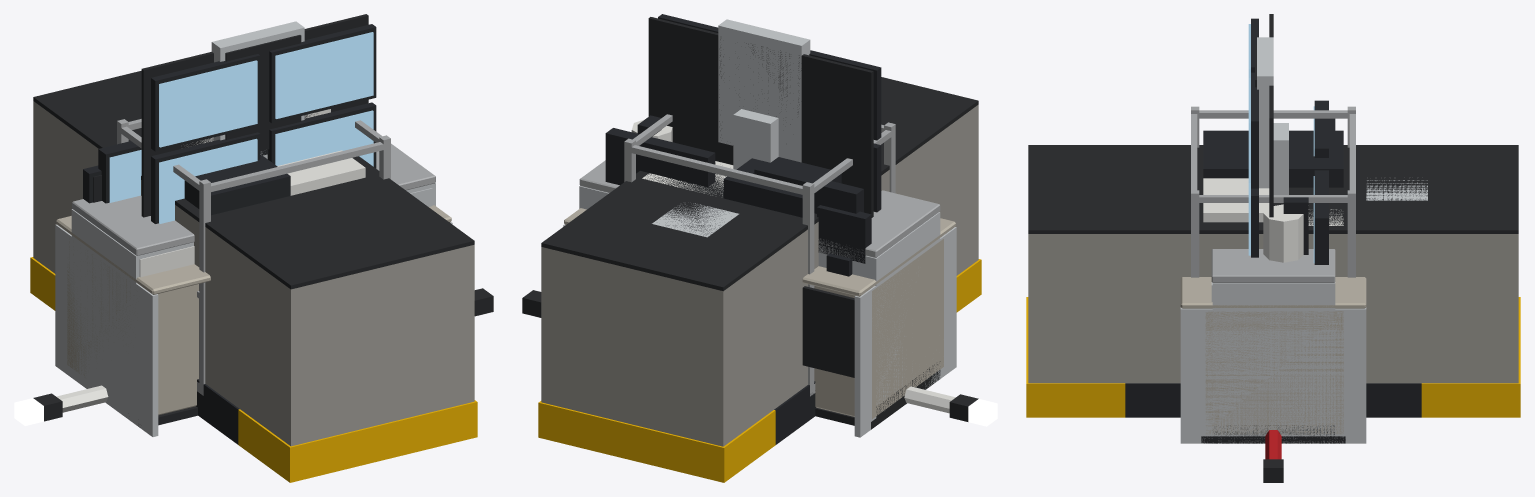
The model's file is hero-s1.glb.
3 views of the same model, side by side, from view 1: azimuth 30°, elevation 25°; view 2: azimuth 150°, elevation 25°; view 3: azimuth 270°, elevation 25° (orthographic). The views are drawn at different scales.
Parts seen in each view (by area): view 1: trafficIsland.concrete, trafficIsland.steelDark, monitorBank.screen, pcDesk.steel, trafficIsland.safety, gateDesk.laminate, monitorBank.plastic, teaPoint.galv, cageTrolley.galv, monitorBank.steelDark, cageTrolley.plastic, teaPoint.steel (+11 smaller); view 2: trafficIsland.concrete, trafficIsland.steelDark, monitorBank.steelDark, gateDesk.laminate, trafficIsland.safety, keyCabinet.steel, gateDesk.plastic, visitorBoard.steelDark, cageTrolley.galv, pcDesk.steel, pcDesk.steelDark, teaPoint.steel (+14 smaller); view 3: trafficIsland.concrete, trafficIsland.steelDark, pcDesk.steel, gateDesk.laminate, teaPoint.steel, trafficIsland.safety, cageTrolley.galv, cageTrolley.plastic, trafficIsland.plastic, teaPoint.galv, cageTrolley.white, gateDesk.plastic (+10 smaller).
Boxes of the visible parts, x1=… form: trafficIsland.concrete: x1=33, y1=101, x2=474, y2=446; trafficIsland.steelDark: x1=33, y1=70, x2=474, y2=289; monitorBank.screen: x1=159, y1=32, x2=373, y2=223; pcDesk.steel: x1=55, y1=222, x2=452, y2=436; trafficIsland.safety: x1=30, y1=257, x2=477, y2=482; gateDesk.laminate: x1=67, y1=205, x2=438, y2=415; monitorBank.plastic: x1=151, y1=24, x2=376, y2=223; teaPoint.galv: x1=72, y1=143, x2=435, y2=255; cageTrolley.galv: x1=117, y1=119, x2=390, y2=395; monitorBank.steelDark: x1=141, y1=14, x2=368, y2=217; cageTrolley.plastic: x1=184, y1=155, x2=290, y2=215; teaPoint.steel: x1=71, y1=183, x2=435, y2=308; trafficIsland.concrete: x1=541, y1=104, x2=978, y2=446; trafficIsland.steelDark: x1=541, y1=77, x2=978, y2=291; monitorBank.steelDark: x1=648, y1=17, x2=873, y2=217; gateDesk.laminate: x1=576, y1=208, x2=943, y2=418; trafficIsland.safety: x1=538, y1=259, x2=981, y2=482; keyCabinet.steel: x1=718, y1=19, x2=810, y2=162; gateDesk.plastic: x1=605, y1=128, x2=863, y2=213; visitorBoard.steelDark: x1=676, y1=54, x2=842, y2=178; cageTrolley.galv: x1=624, y1=114, x2=895, y2=396; pcDesk.steel: x1=563, y1=224, x2=956, y2=437; pcDesk.steelDark: x1=802, y1=286, x2=854, y2=377; teaPoint.steel: x1=579, y1=186, x2=940, y2=406; trafficIsland.concrete: x1=1028, y1=234, x2=1518, y2=383; trafficIsland.steelDark: x1=1028, y1=145, x2=1518, y2=233; pcDesk.steel: x1=1180, y1=307, x2=1366, y2=443; gateDesk.laminate: x1=1203, y1=277, x2=1343, y2=434; teaPoint.steel: x1=1211, y1=282, x2=1335, y2=425; trafficIsland.safety: x1=1026, y1=297, x2=1520, y2=417; cageTrolley.galv: x1=1191, y1=106, x2=1355, y2=277; cageTrolley.plastic: x1=1203, y1=130, x2=1343, y2=187; trafficIsland.plastic: x1=1125, y1=383, x2=1421, y2=417; teaPoint.galv: x1=1211, y1=249, x2=1335, y2=282; cageTrolley.white: x1=1203, y1=178, x2=1343, y2=225; gateDesk.plastic: x1=1314, y1=100, x2=1328, y2=264.
Bounding box in the file's own units: 2.5 × 1.7 × 2.4.
